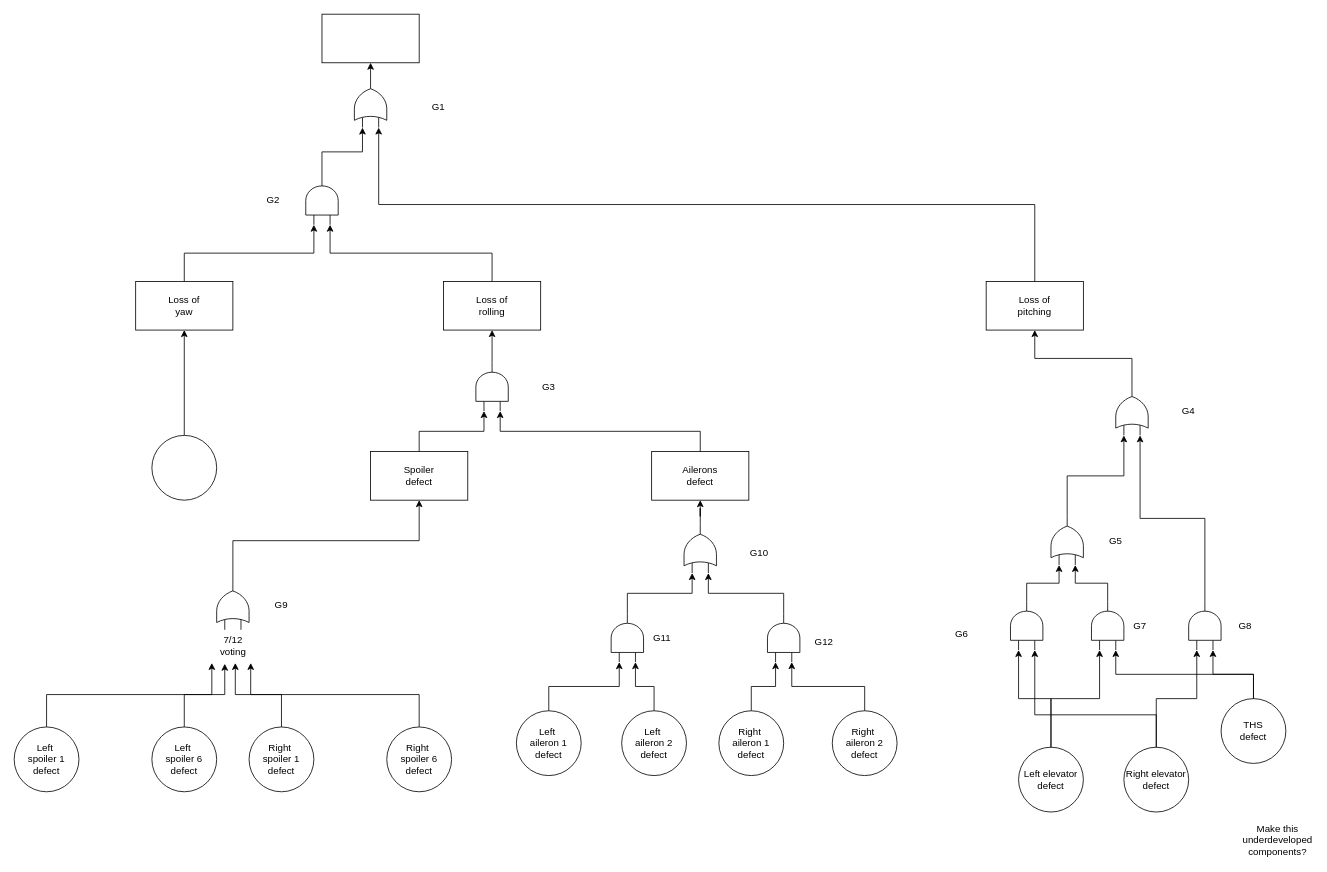
This 1327x872 diagram has some shape labels left out. The centre of each missing label's shape, as x and y in pixels:
"Plane defect" belongs at [370,38].
"Rudder defect" belongs at [184,467].
